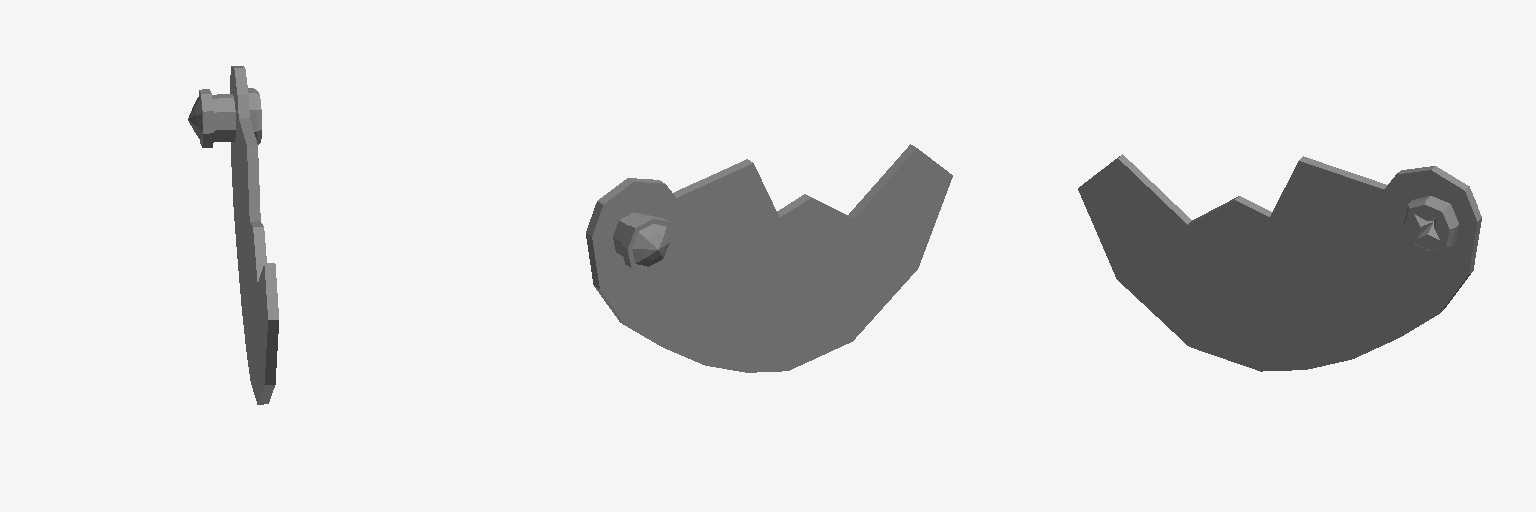
File: babyface_Pinza_Izq_Inf.obj
3 renders of one model, left to right at view 1: azimuth 30°, elevation 25°; view 2: azimuth 150°, elevation 25°; view 3: azimuth 270°, elevation 25°, orthographic.
Parts seen in each view (by area): view 1: BF_pinzaL_abajo; view 2: BF_pinzaL_abajo; view 3: BF_pinzaL_abajo.
Part boxes in pixels (x1,y1,x2,y2): BF_pinzaL_abajo: (188,66,278,404); BF_pinzaL_abajo: (586,144,952,372); BF_pinzaL_abajo: (1078,154,1481,371).
Size of the model in its own units: 0.8468 by 1.1 by 1.71.